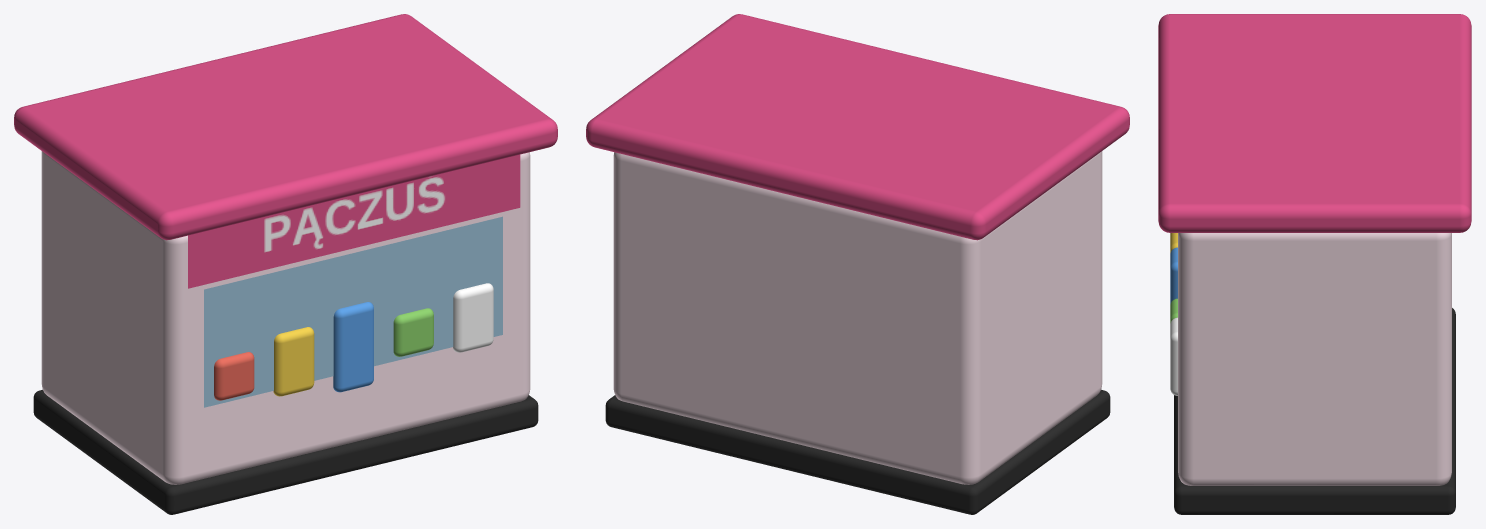
The model's file is kiosk.glb.
The picture shows the model from 3 angles, left to right: view 1: azimuth 30°, elevation 25°; view 2: azimuth 150°, elevation 25°; view 3: azimuth 270°, elevation 25°; orthographic projection.
Bounding box in the file's own units: 12 × 8.9 × 8.
10 materials, 1 textured.
